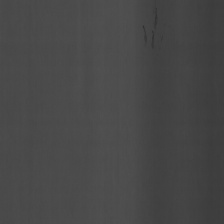water_spot: (137, 8, 164, 57)
